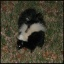skunk: (17, 9, 45, 51)
